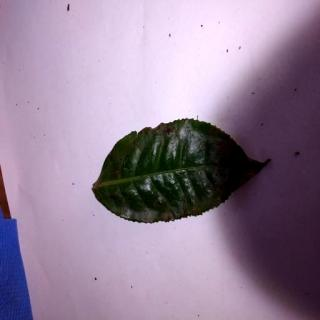Bird Eye Spot: (93, 118, 271, 225)
